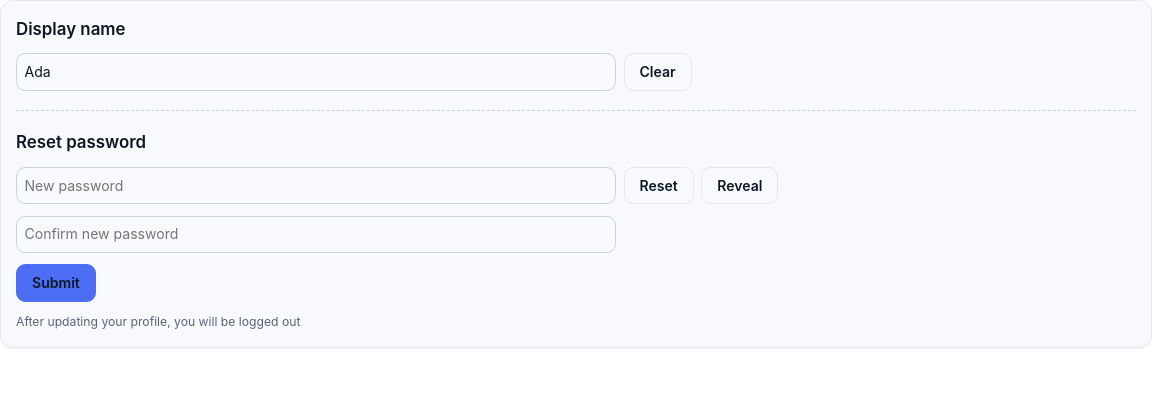
Test case: EditProfileSettings validation › surfaces a server error without logging out
Replace the text in the field named "Display name" with "Ada Lovelace" at (316, 72), box [16,53,616,91]
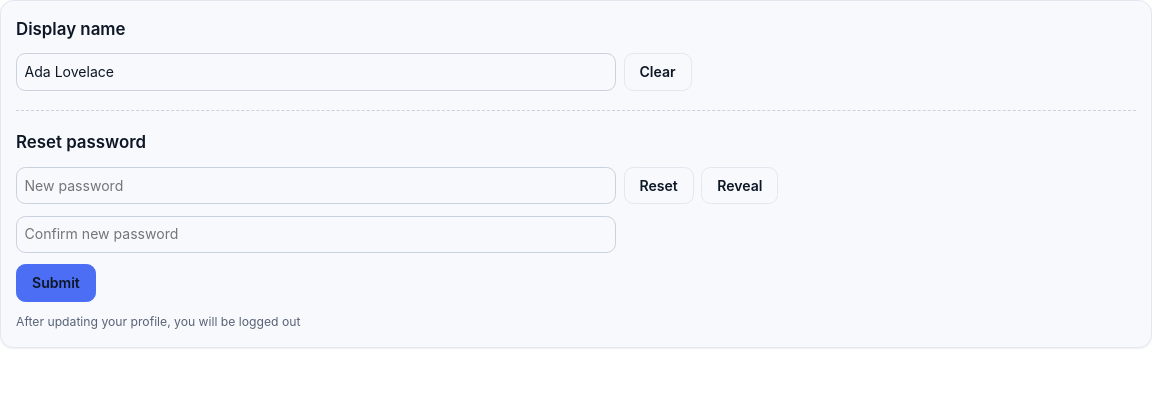
Click the button "Submit".
click(56, 283)  # box [16,264,96,302]
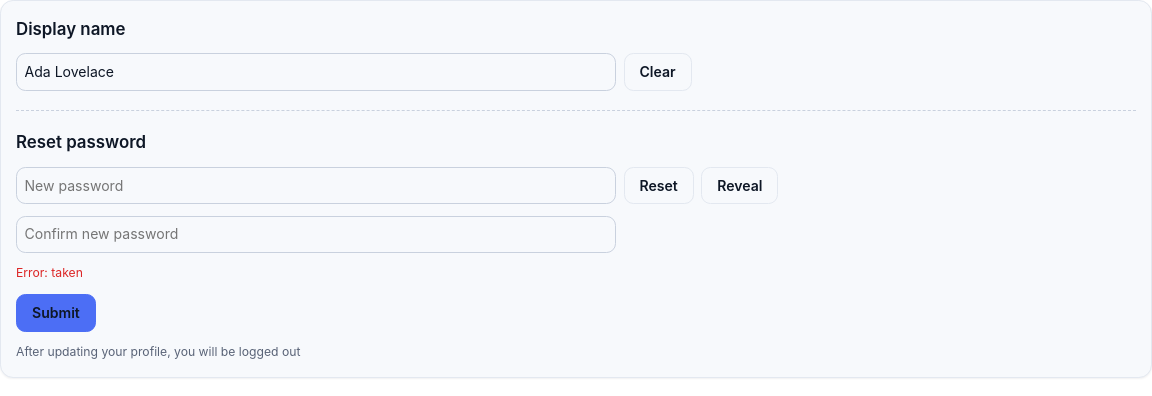
Expected: the text "Error: taken" is shown, [16,265,83,280]
